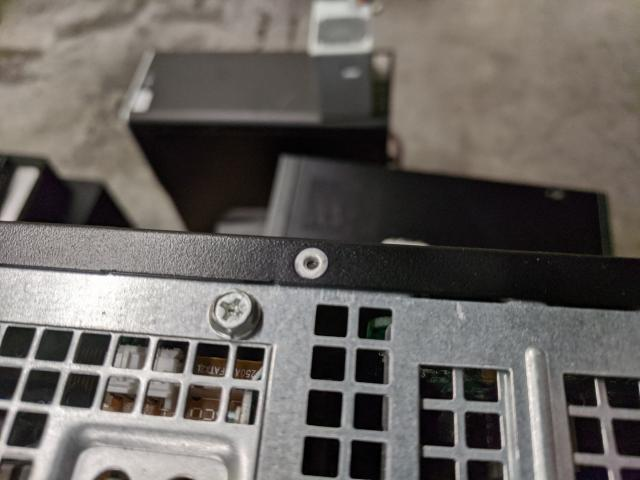CRS: (212, 291, 260, 334)
